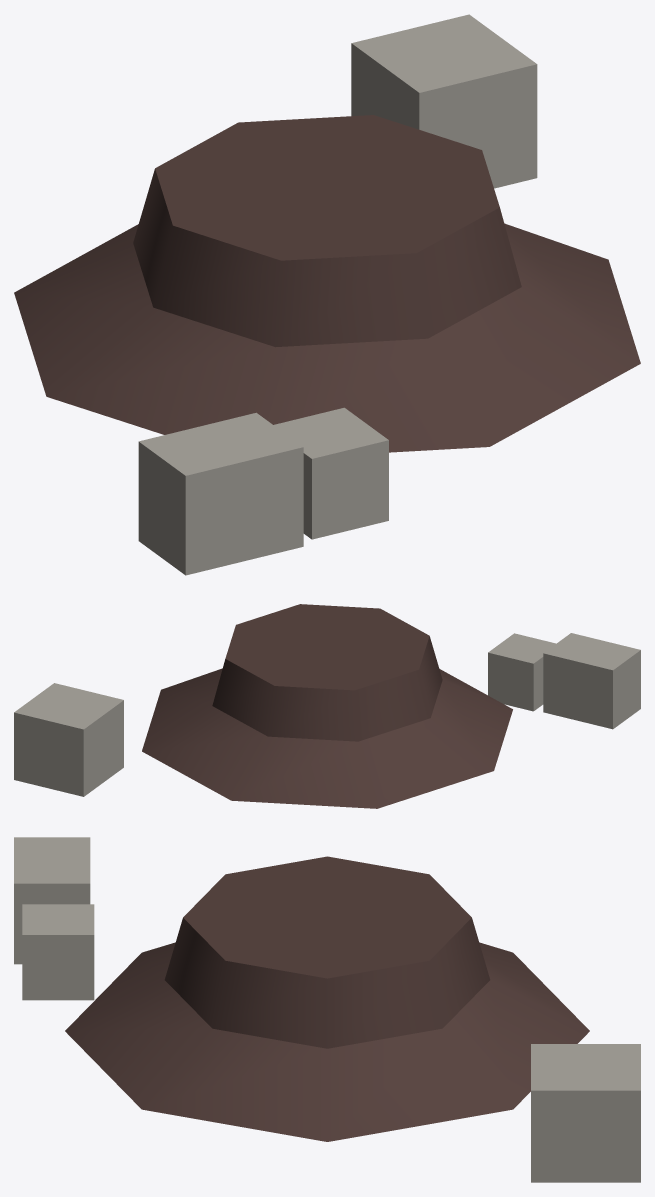
File: site_rom_far.fbx
The picture shows the model from 3 angles, top to bottom: view 1: azimuth 30°, elevation 25°; view 2: azimuth 150°, elevation 25°; view 3: azimuth 270°, elevation 25°; orthographic projection. The views are drawn at different scales.
Parts seen in each view (by area): view 1: a1022/0/site_rom_far; view 2: a1022/0/site_rom_far; view 3: a1022/0/site_rom_far.
Boxes of the visible parts, bbox=[...] form: a1022/0/site_rom_far: bbox=[14, 14, 640, 575]; a1022/0/site_rom_far: bbox=[14, 604, 640, 808]; a1022/0/site_rom_far: bbox=[14, 837, 640, 1182].
Size of the model in its own units: 14.8 by 3.46 by 14.8.
